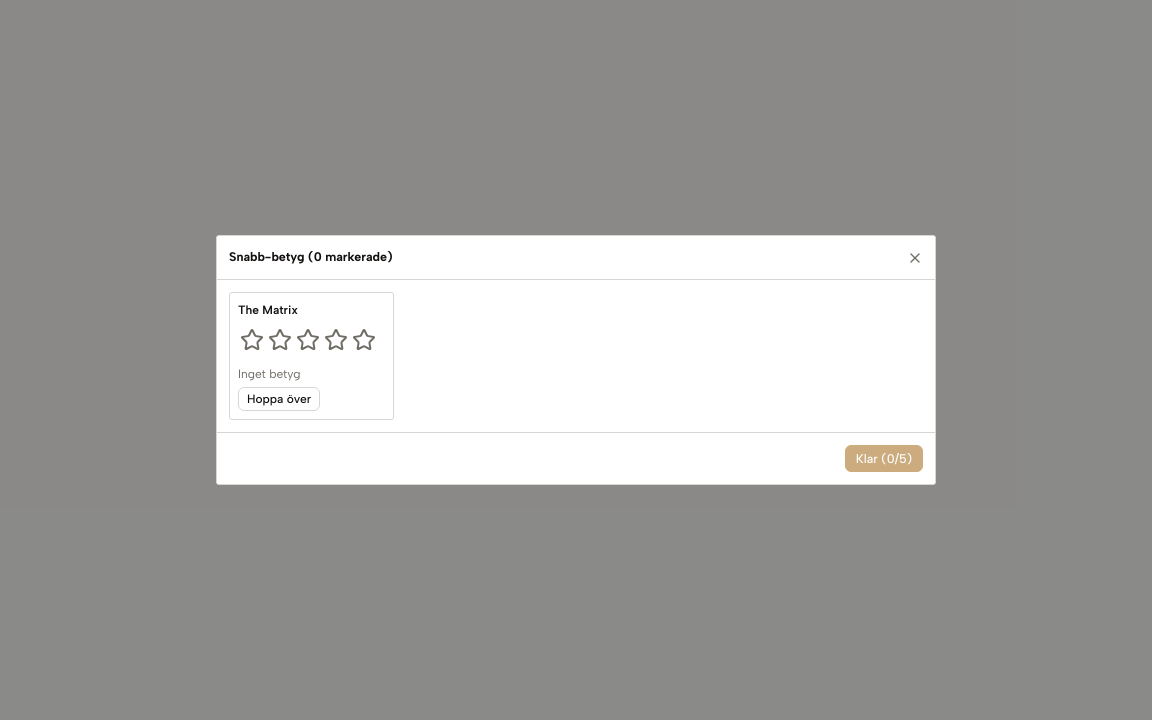
Test: QuickRateModal — a rating pass is not a viewing log (BIN-611 / BIN-599) › DOES retire a card when the write landed
The width and height of the screenshot is (1152, 720).
Expected: the text "The Matrix" is shown, [238,303,298,317]
Click the button named "Sett, 4 stjärnor".
click(343, 340)  # box [336,323,350,357]
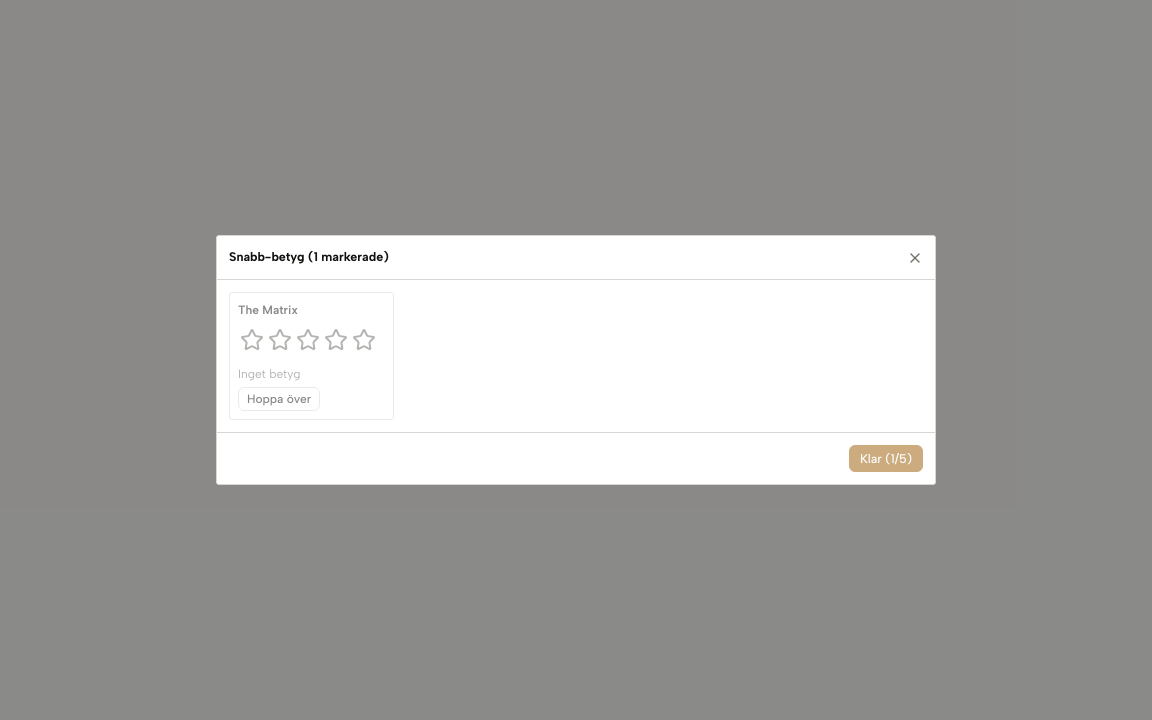
Now the heading "Snabb-betyg (1 markerade)" is shown, box [229,248,389,267]
